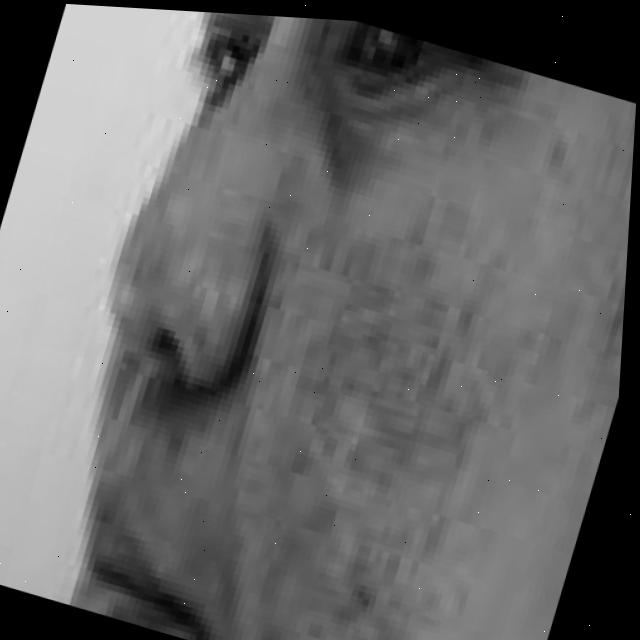Melasma: (222, 165, 576, 640)
